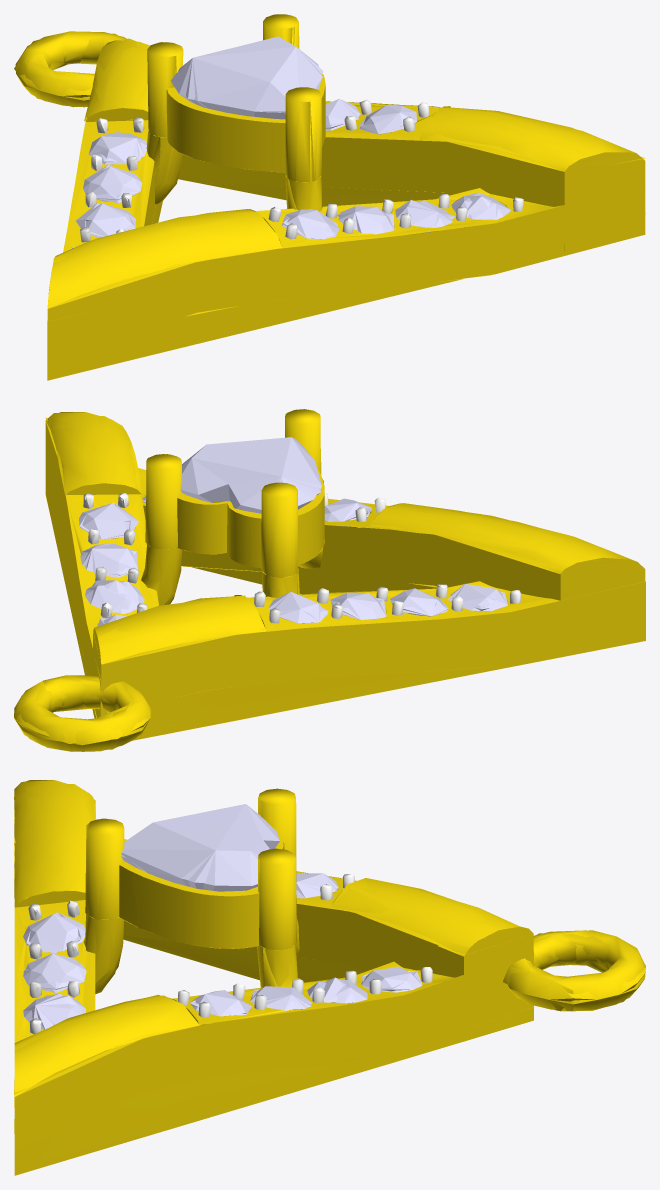
Rendered from DPN-D000675683.glb.
3 views of the same model, one above another, from view 1: azimuth 30°, elevation 25°; view 2: azimuth 150°, elevation 25°; view 3: azimuth 270°, elevation 25° (orthographic). The views are drawn at different scales.
Parts seen in each view (by area): view 1: highPolyMesh, lowPolyMesh; view 2: highPolyMesh, lowPolyMesh; view 3: highPolyMesh, lowPolyMesh.
Boxes of the visible parts, left/top/right/bottom form: highPolyMesh: left=15, top=14, right=644, bottom=364; lowPolyMesh: left=14, top=14, right=645, bottom=380; highPolyMesh: left=15, top=409, right=645, bottom=751; lowPolyMesh: left=14, top=409, right=645, bottom=751; highPolyMesh: left=14, top=780, right=645, bottom=1174; lowPolyMesh: left=14, top=780, right=645, bottom=1175.
Size of the model in its own units: 0.0151 by 0.00454 by 0.013.
